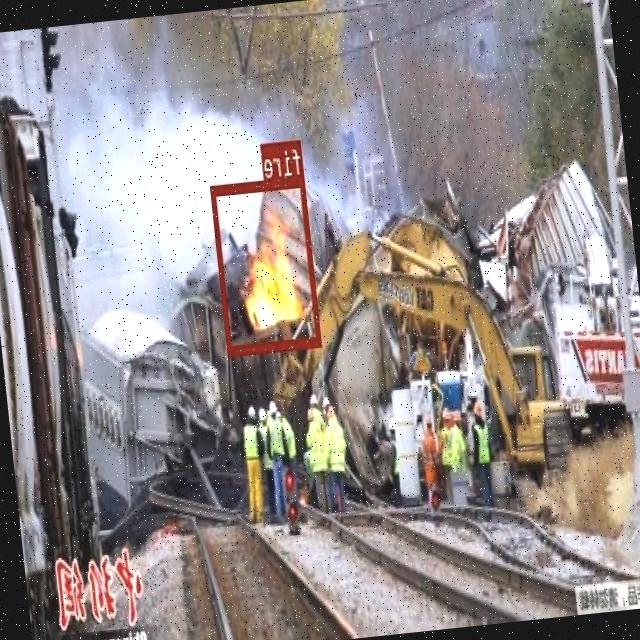fire: (212, 174, 322, 355)
